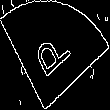P_SW: (32, 25, 78, 85)
